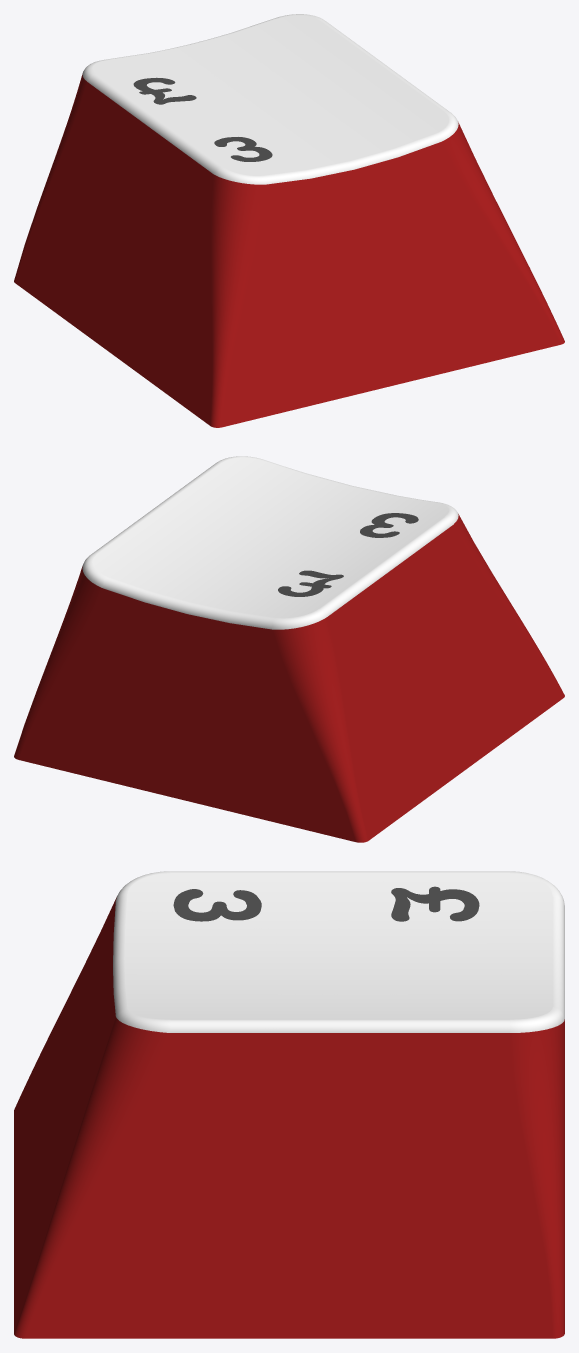
Rendered from 3 ISO.fbx.
The picture shows the model from 3 angles, top to bottom: view 1: azimuth 30°, elevation 25°; view 2: azimuth 150°, elevation 25°; view 3: azimuth 270°, elevation 25°; orthographic projection. The views are drawn at different scales.
Visible parts, largest first — view 1: Body1; view 2: Body1; view 3: Body1.
Part boxes in pixels (x1,y1,x2,y2): Body1: (14, 14, 564, 427); Body1: (14, 456, 564, 842); Body1: (14, 871, 564, 1338).
Bounding box in the file's own units: 18 × 9.95 × 18.
